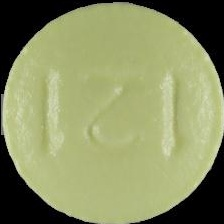0536-3086: (0, 0, 224, 224)
